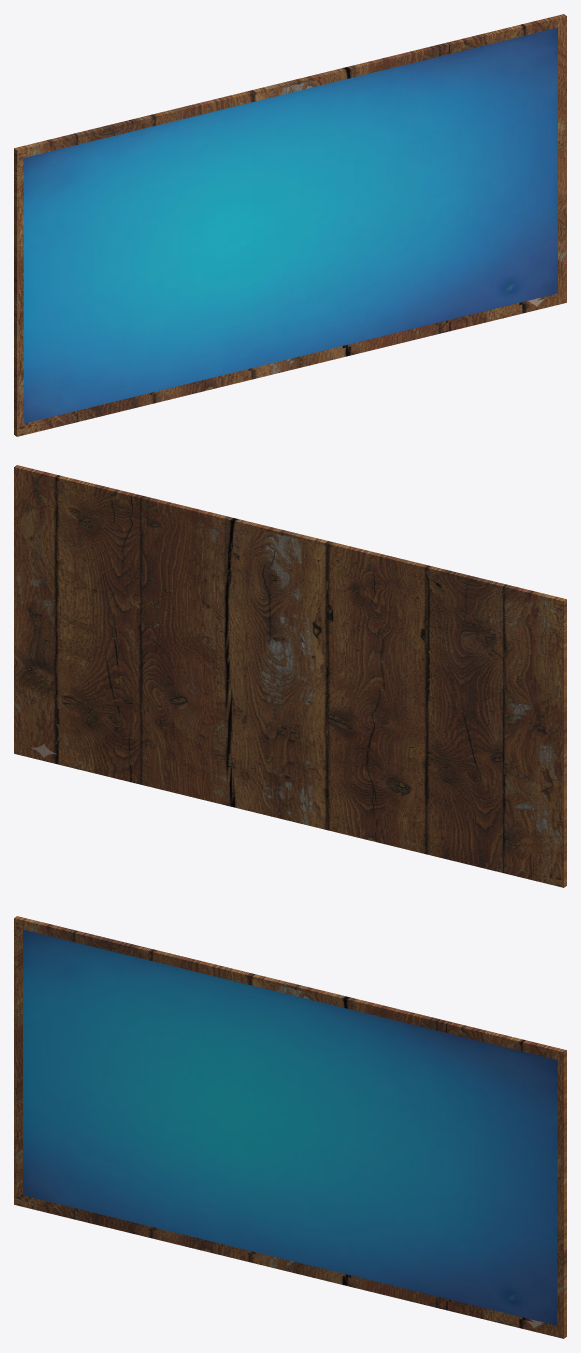
File: Letrero.obj
3 views of the same model, one above another, from view 1: azimuth 30°, elevation 25°; view 2: azimuth 150°, elevation 25°; view 3: azimuth 330°, elevation 25° (orthographic).
Parts seen in each view (by area): view 1: Frente_Frente, Fundo.002_Fundo; view 2: Fundo.002_Fundo; view 3: Frente_Frente, Fundo.002_Fundo.
Boxes of the visible parts, left/top/right/bottom form: Frente_Frente: left=23, top=27, right=557, bottom=423; Fundo.002_Fundo: left=14, top=14, right=566, bottom=436; Fundo.002_Fundo: left=14, top=465, right=566, bottom=887; Frente_Frente: left=23, top=929, right=557, bottom=1325; Fundo.002_Fundo: left=14, top=916, right=566, bottom=1338.
Bounding box in the file's own units: 2 × 0.9945 × 0.0191.
2 materials, 2 textured.
